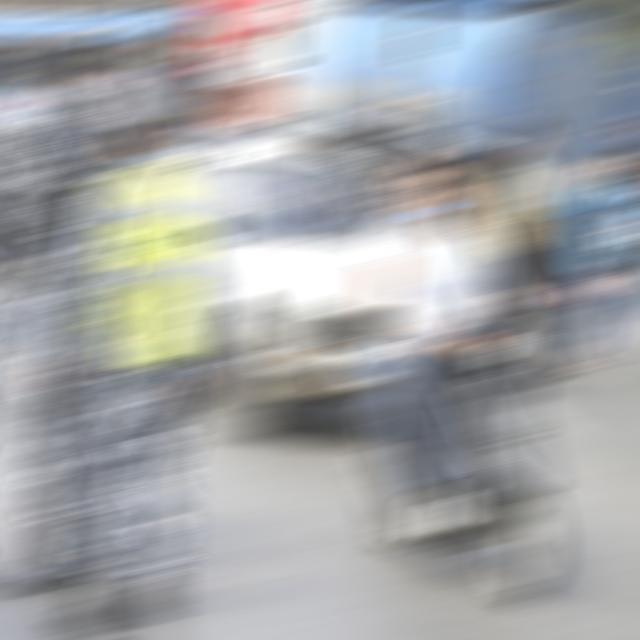Without Helmet: (386, 122, 444, 208), (415, 156, 478, 230), (502, 119, 548, 165), (581, 145, 621, 183), (372, 93, 410, 126)
